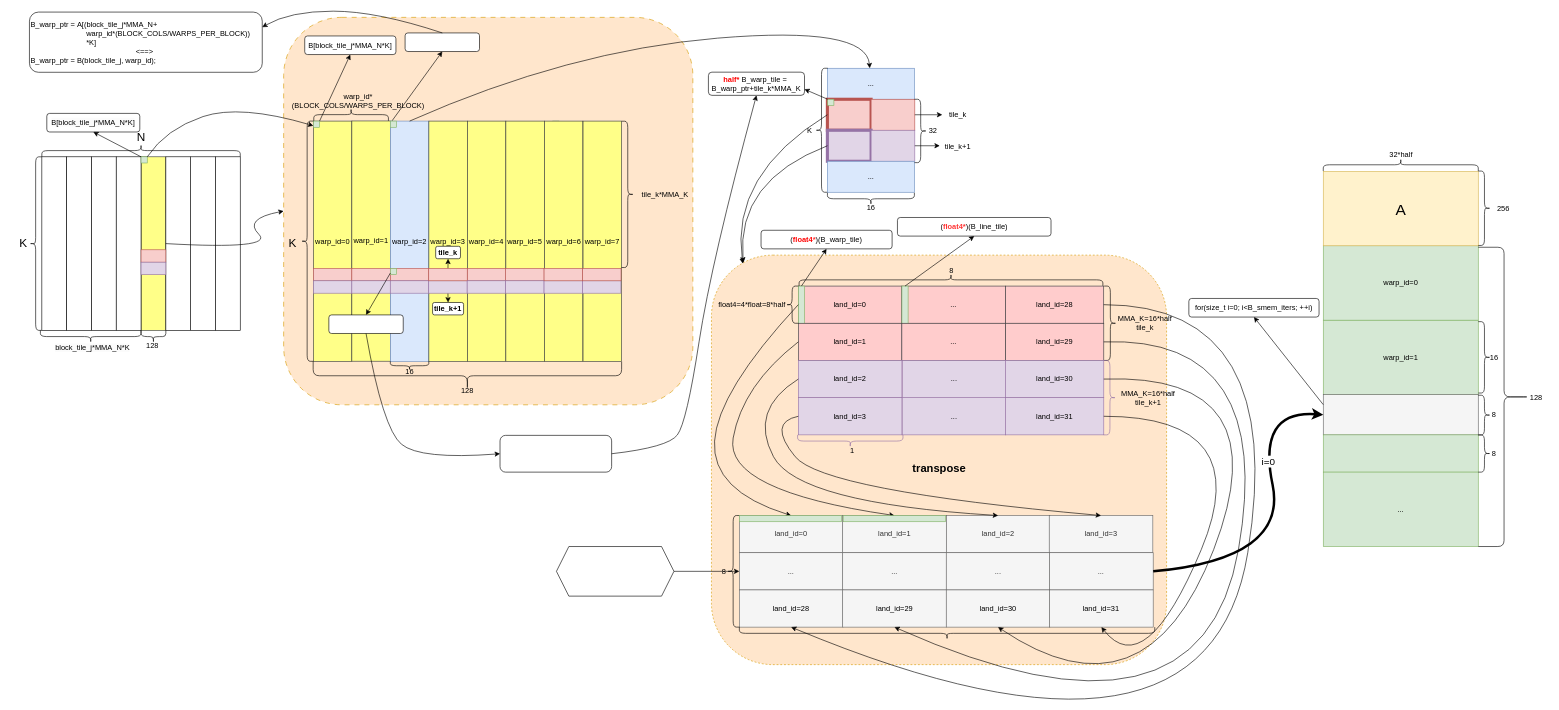
This 1559x710 diagram has some shape labels left out. The shapes that lost their labels are listed below. From the top down, each one's centre as x and y in pixels, then its label:
At (x=442, y=42): "half* B_warp_ptr".
At (x=365, y=323): "half* B_warp_tile".
At (x=1400, y=414): "warp_id=2 i=0".
At (x=555, y=453): "half * B_warp_tile = B_warp_ptr+tile_k*MMA_K;".
At (x=1400, y=453): "warp_id=2 i=1".
At (x=615, y=571): "part of shared memory smem[BLOCK_ROWS][0]".
At (x=947, y=633): "4*float4=32*half".
